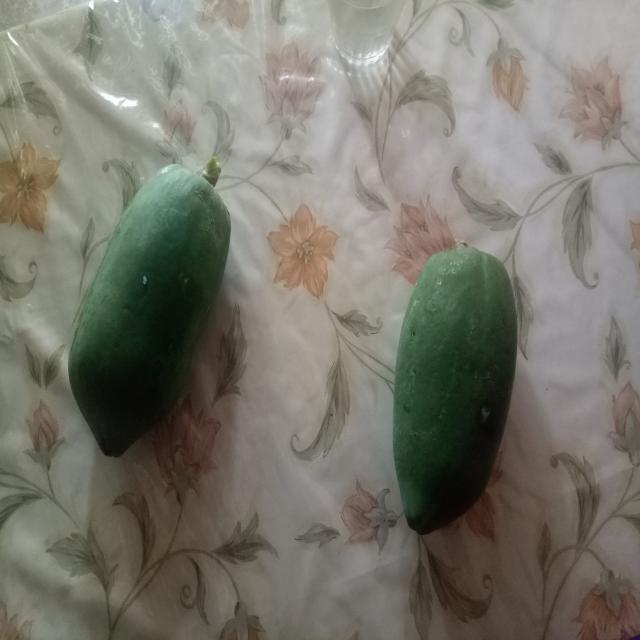Pepaya unrippen: (66, 156, 234, 458), (390, 240, 522, 534)
